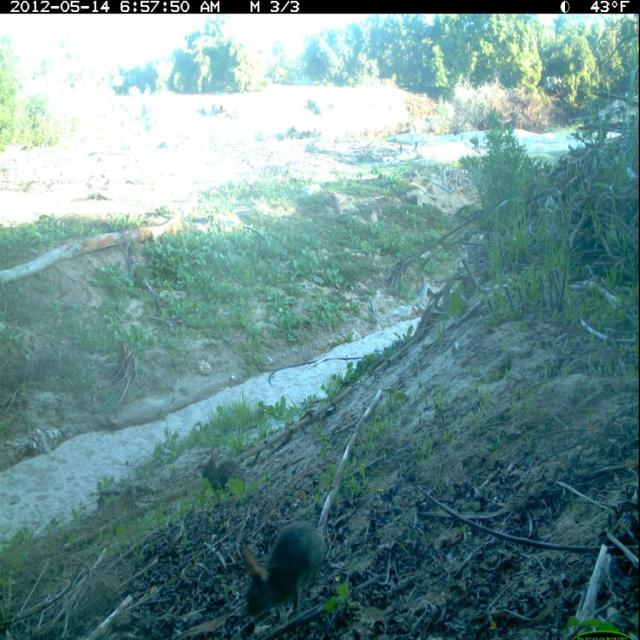rabbit: (232, 523, 341, 625), (200, 440, 256, 502)
